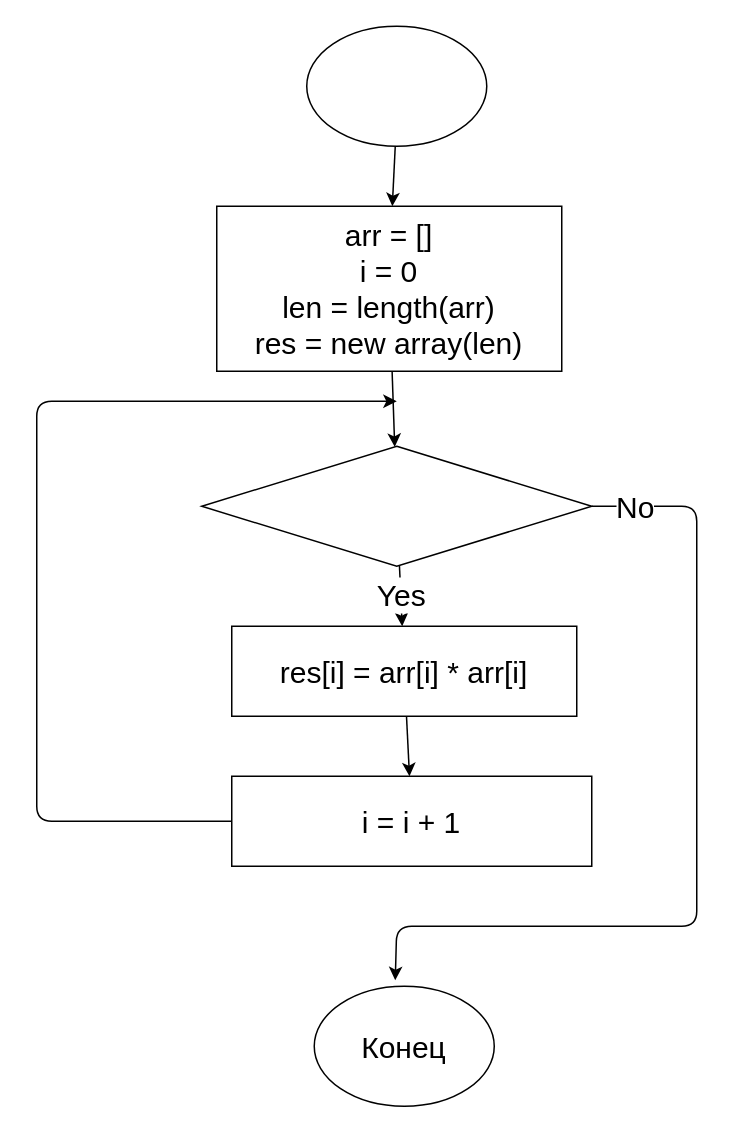
Some shapes in this 735 by 1133 pixel diagram are drawn without their labels. The shapes that lost their labels are listed below. From the top down, each one's centre as x and y in pixels, then its label:
At (x=396, y=85): "Начало".
At (x=396, y=505): "i < len".
